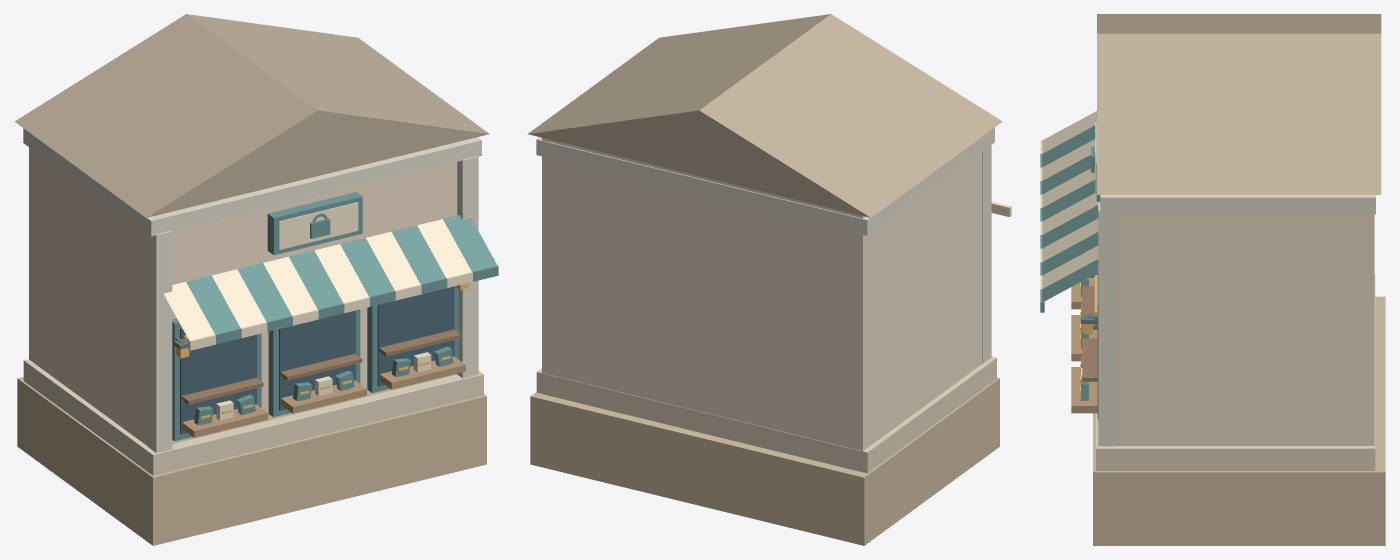
The model's file is Books.glb.
3 renders of one model, left to right at view 1: azimuth 30°, elevation 25°; view 2: azimuth 150°, elevation 25°; view 3: azimuth 270°, elevation 25°, orthographic. The views are drawn at different scales.
Parts seen in each view (by area): view 1: Books; view 2: Books; view 3: Books.
Part boxes in pixels (x1=…): Books: x1=14, y1=14, x2=498, y2=545; Books: x1=528, y1=14, x2=1011, y2=545; Books: x1=1040, y1=14, x2=1385, y2=545.
Bounding box in the file's own units: 6.96 × 7.61 × 5.62.
